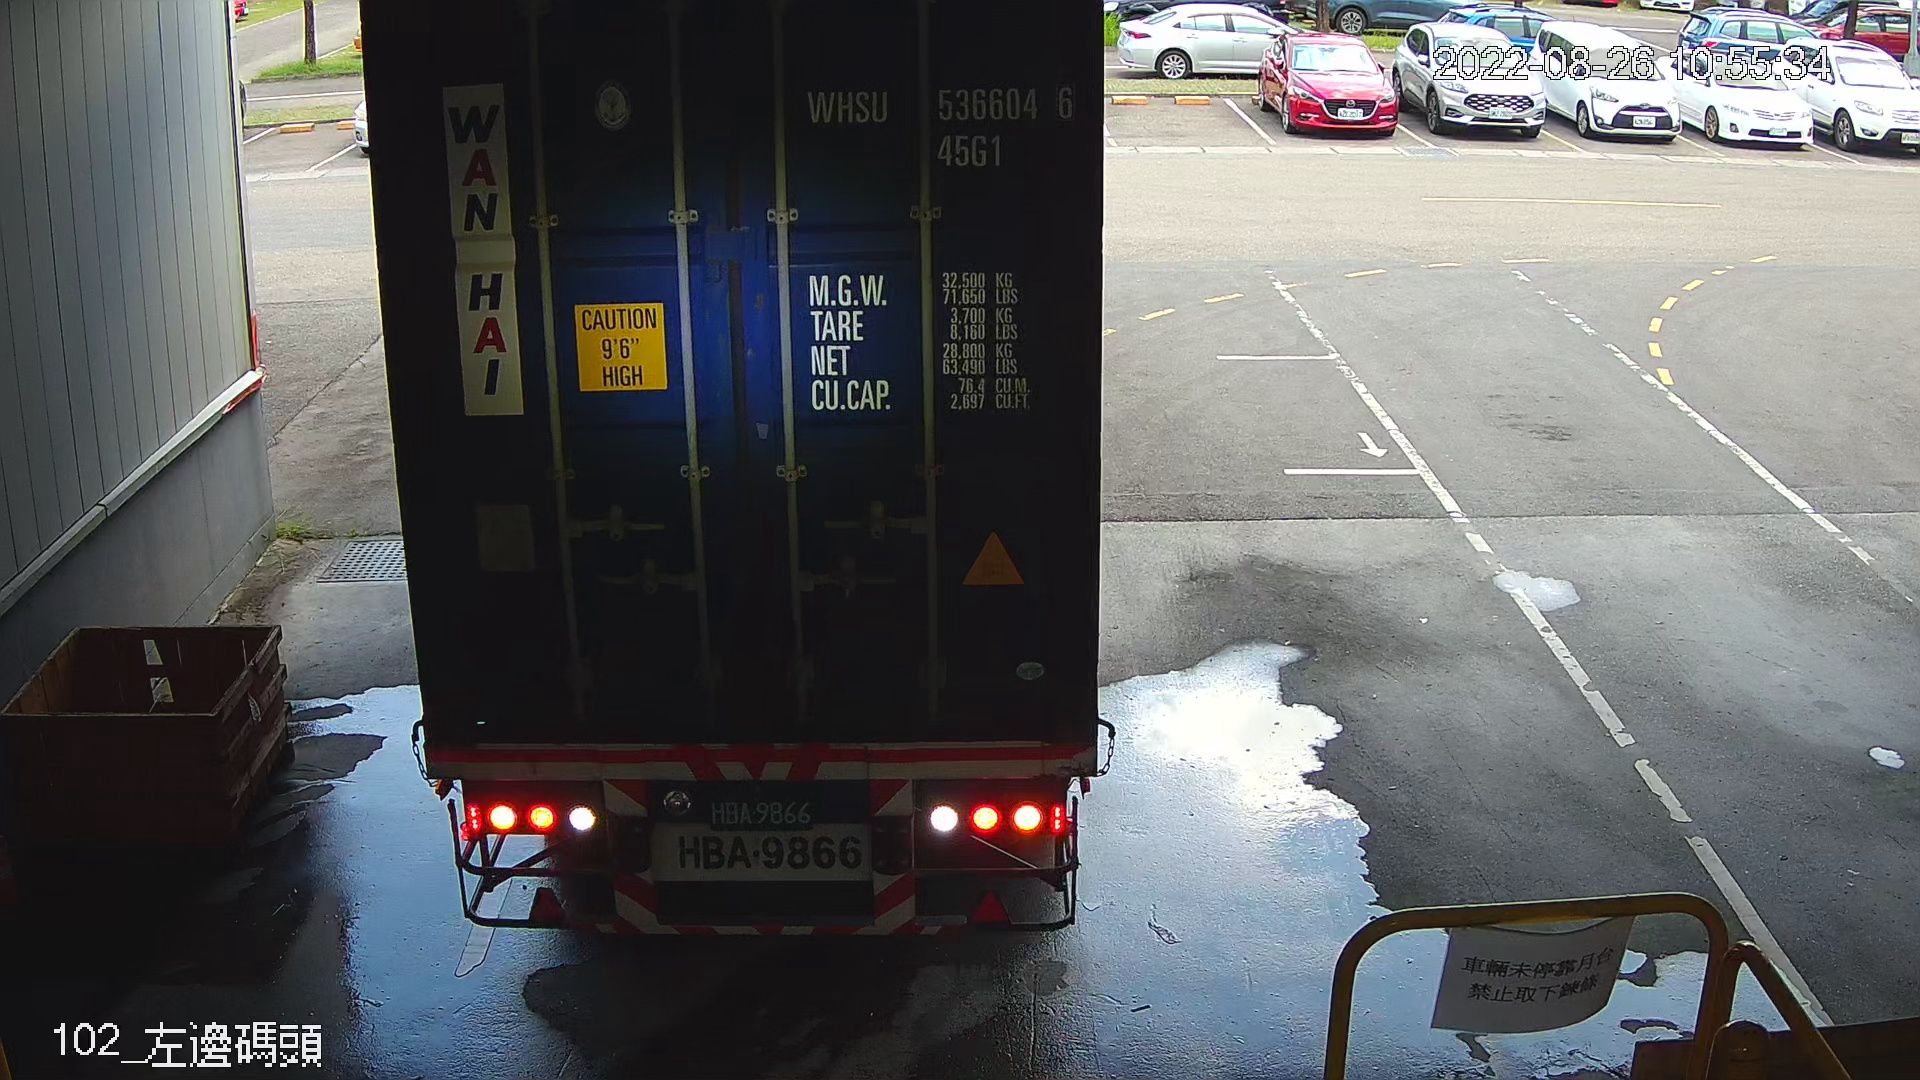container: (796, 73, 1084, 177)
